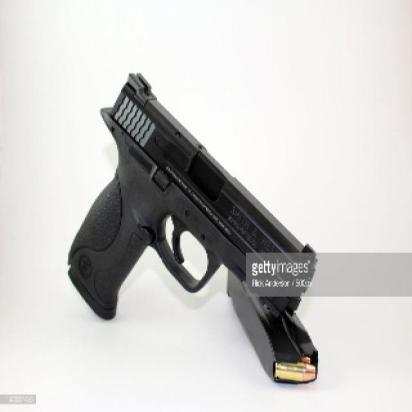Gun: (62, 70, 315, 318)
